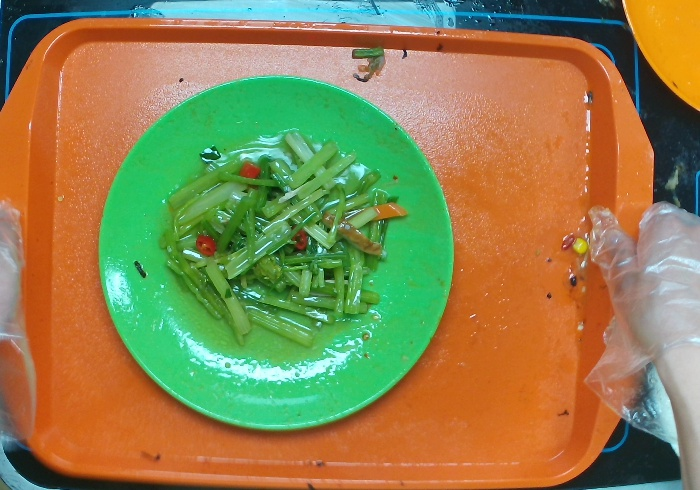HZYJPL-Lv_Se_Yuan_Pan: (95, 73, 462, 438)
